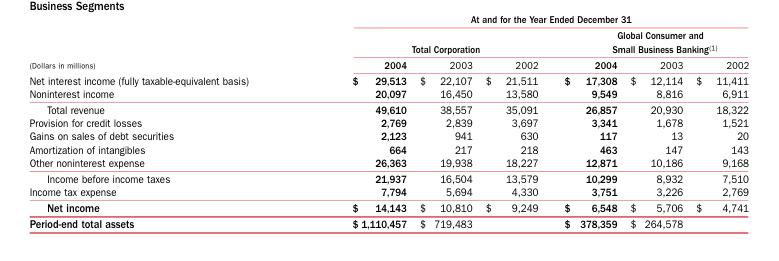table: (28, 29, 748, 229)
table column: (28, 29, 299, 229), (299, 29, 412, 229), (478, 29, 550, 229), (550, 29, 622, 229), (412, 29, 478, 229), (622, 29, 688, 229), (688, 29, 748, 229)
table column header: (28, 29, 748, 72)
table row: (28, 29, 748, 56), (28, 56, 748, 72), (28, 199, 748, 215), (28, 86, 748, 101), (28, 155, 748, 170), (28, 184, 748, 199), (28, 72, 748, 86), (28, 101, 748, 115), (28, 115, 748, 129), (28, 170, 748, 184), (28, 215, 748, 229), (28, 129, 748, 142), (28, 142, 748, 155)
table spanning cell: (28, 29, 299, 72), (299, 29, 550, 56), (550, 29, 748, 56)
